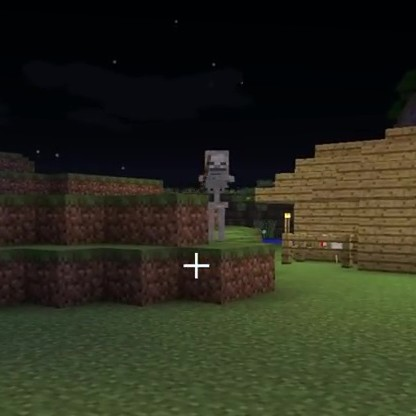skeleton: (202, 149, 234, 239)
